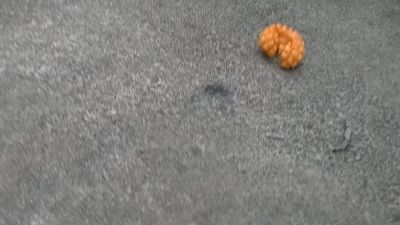eggs: (255, 20, 309, 73)
